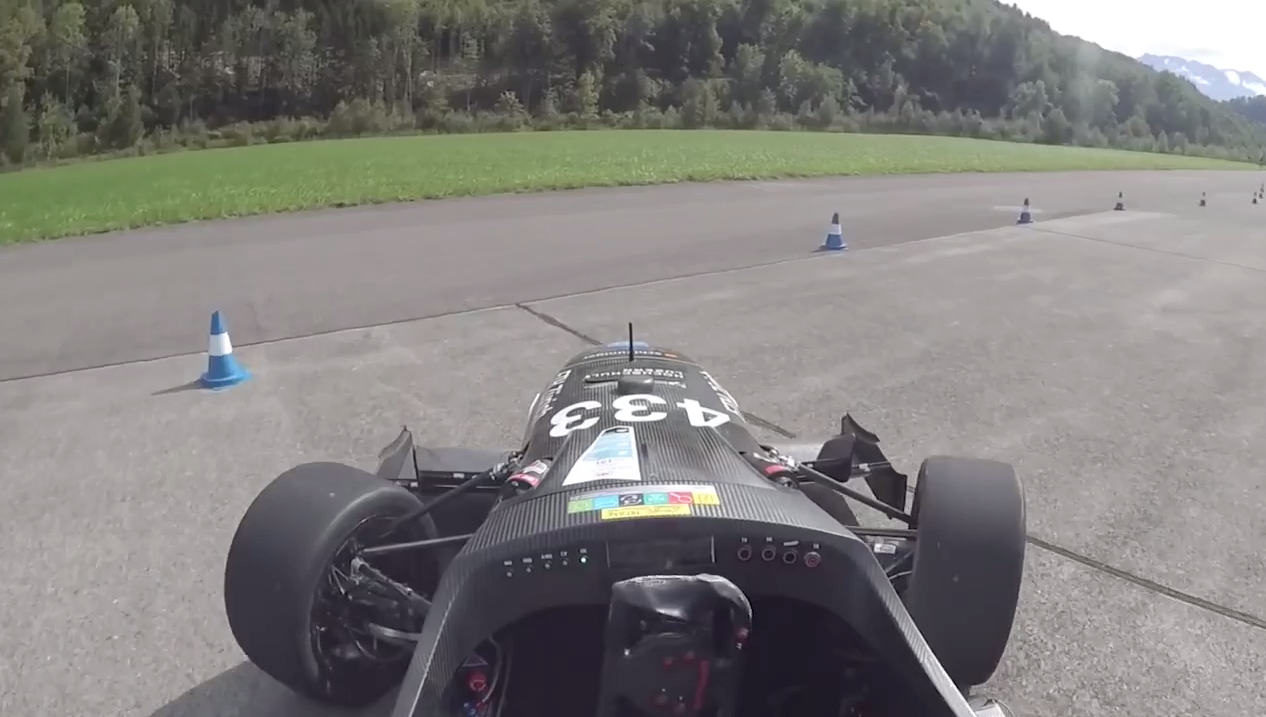lcone: (185, 303, 256, 397), (819, 206, 854, 258), (1014, 195, 1040, 228)
